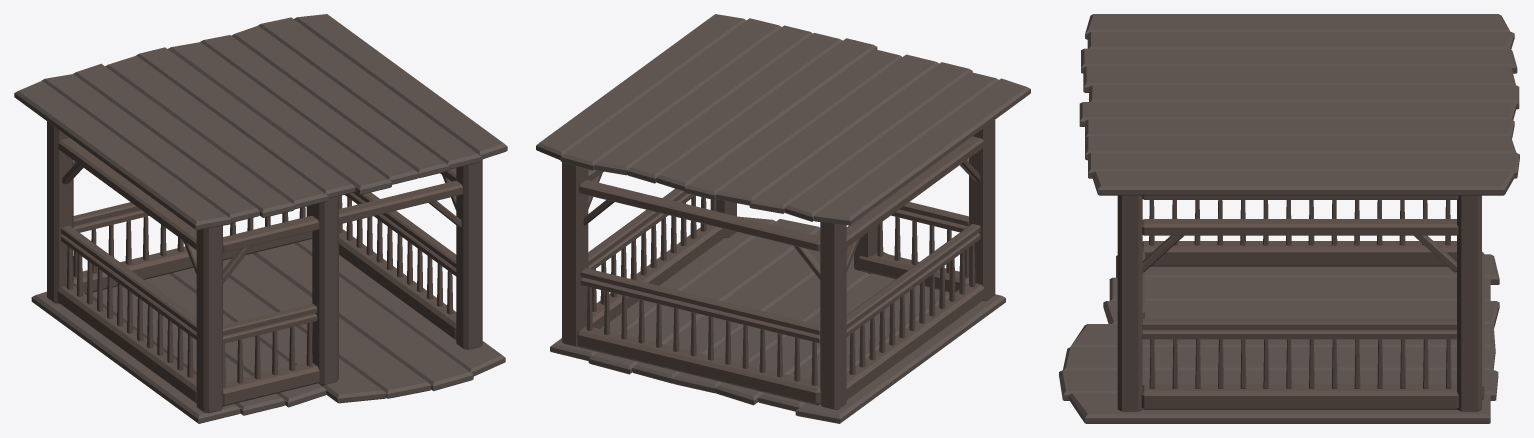
File: farmstractures_03.glb
The picture shows the model from 3 angles, left to right: view 1: azimuth 30°, elevation 25°; view 2: azimuth 150°, elevation 25°; view 3: azimuth 270°, elevation 25°; orthographic projection. The views are drawn at different scales.
Parts seen in each view (by area): view 1: farmstractures_03; view 2: farmstractures_03; view 3: farmstractures_03.
Part boxes in pixels (bbox=[...]): farmstractures_03: bbox=[14, 14, 507, 423]; farmstractures_03: bbox=[536, 14, 1030, 423]; farmstractures_03: bbox=[1059, 14, 1519, 423].
Bounding box in the file's own units: 3.58 × 2.31 × 4.
Materials: 1 (1 with a texture image).
